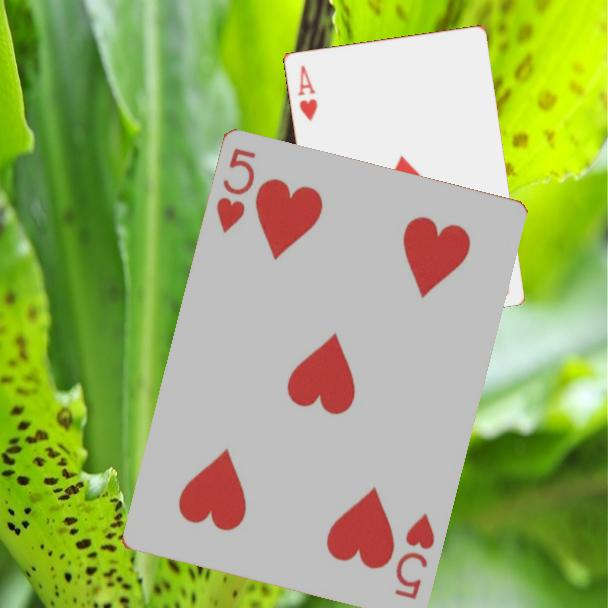h01: (294, 61, 320, 124)
h05: (391, 510, 438, 603), (213, 145, 259, 237)
